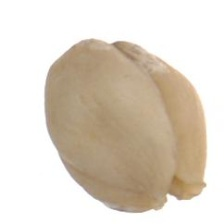L1: (157, 173, 207, 209)
L2: (43, 38, 206, 212)
